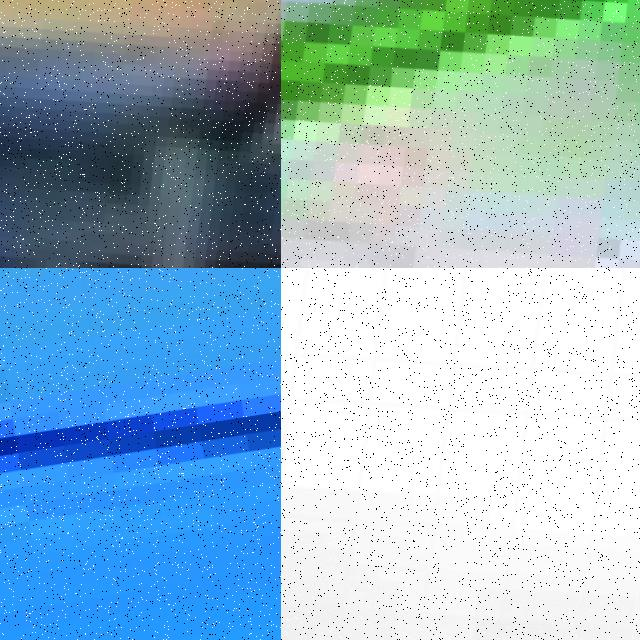0: (0, 0, 281, 268)
drone: (281, 268, 640, 640), (281, 0, 640, 268)
